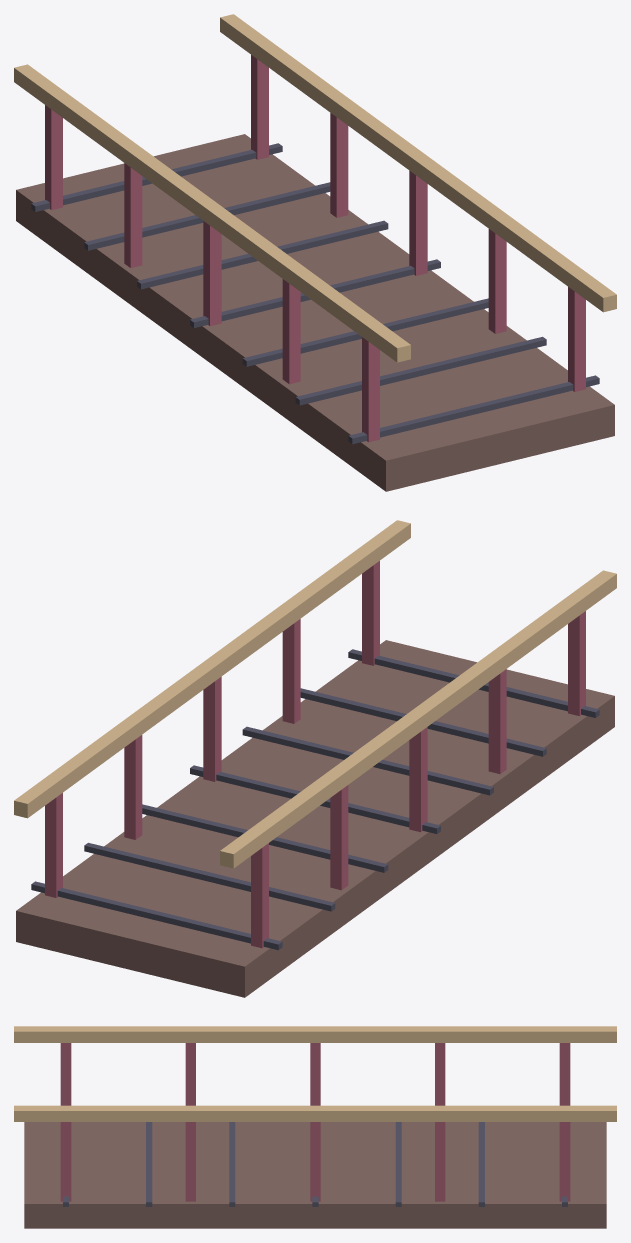
The model's file is moonfall_bridge.glb.
3 views of the same model, one above another, from view 1: azimuth 30°, elevation 25°; view 2: azimuth 150°, elevation 25°; view 3: azimuth 270°, elevation 25° (orthographic). The views are drawn at different scales.
Parts seen in each view (by area): view 1: moonfall_bridge_00, moonfall_bridge_06, moonfall_bridge_12, moonfall_bridge_18, moonfall_bridge_19, moonfall_bridge_15, moonfall_bridge_14, moonfall_bridge_17, moonfall_bridge_04, moonfall_bridge_10, moonfall_bridge_02, moonfall_bridge_08 (+8 smaller); view 2: moonfall_bridge_00, moonfall_bridge_06, moonfall_bridge_12, moonfall_bridge_14, moonfall_bridge_13, moonfall_bridge_17, moonfall_bridge_18, moonfall_bridge_15, moonfall_bridge_02, moonfall_bridge_08, moonfall_bridge_04, moonfall_bridge_10 (+8 smaller); view 3: moonfall_bridge_00, moonfall_bridge_06, moonfall_bridge_12, moonfall_bridge_07, moonfall_bridge_11, moonfall_bridge_08, moonfall_bridge_10, moonfall_bridge_09, moonfall_bridge_01, moonfall_bridge_05, moonfall_bridge_02, moonfall_bridge_03 (+5 smaller).
Boxes of the visible parts, x1,y1,x2,y2 form: moonfall_bridge_00: (16, 134, 614, 491); moonfall_bridge_06: (14, 64, 410, 362); moonfall_bridge_12: (220, 14, 616, 312); moonfall_bridge_18: (295, 336, 546, 405); moonfall_bridge_19: (348, 375, 599, 444); moonfall_bridge_15: (137, 220, 388, 289); moonfall_bridge_14: (84, 182, 330, 250); moonfall_bridge_17: (242, 298, 488, 366); moonfall_bridge_04: (282, 279, 300, 384); moonfall_bridge_10: (488, 229, 506, 333); moonfall_bridge_02: (124, 163, 142, 267); moonfall_bridge_08: (330, 113, 348, 217); moonfall_bridge_00: (16, 640, 614, 997); moonfall_bridge_06: (220, 570, 616, 868); moonfall_bridge_12: (14, 520, 410, 818); moonfall_bridge_14: (84, 842, 335, 911); moonfall_bridge_13: (31, 881, 282, 950); moonfall_bridge_17: (242, 726, 493, 795); moonfall_bridge_18: (300, 688, 546, 756); moonfall_bridge_15: (142, 804, 388, 872); moonfall_bridge_02: (330, 785, 348, 890); moonfall_bridge_08: (124, 735, 142, 839); moonfall_bridge_04: (488, 669, 506, 773); moonfall_bridge_10: (282, 619, 300, 723); moonfall_bridge_00: (24, 1122, 606, 1228); moonfall_bridge_06: (14, 1026, 616, 1042); moonfall_bridge_12: (14, 1105, 616, 1121); moonfall_bridge_07: (559, 1122, 570, 1201); moonfall_bridge_11: (60, 1122, 71, 1201); moonfall_bridge_08: (435, 1122, 445, 1201); moonfall_bridge_10: (185, 1122, 195, 1201); moonfall_bridge_09: (310, 1122, 320, 1201); moonfall_bridge_01: (559, 1043, 570, 1105); moonfall_bridge_05: (60, 1043, 71, 1105); moonfall_bridge_02: (435, 1043, 445, 1105); moonfall_bridge_03: (310, 1043, 320, 1105).
Bounding box in the file's own units: 5.4 × 3.07 × 14.5.
